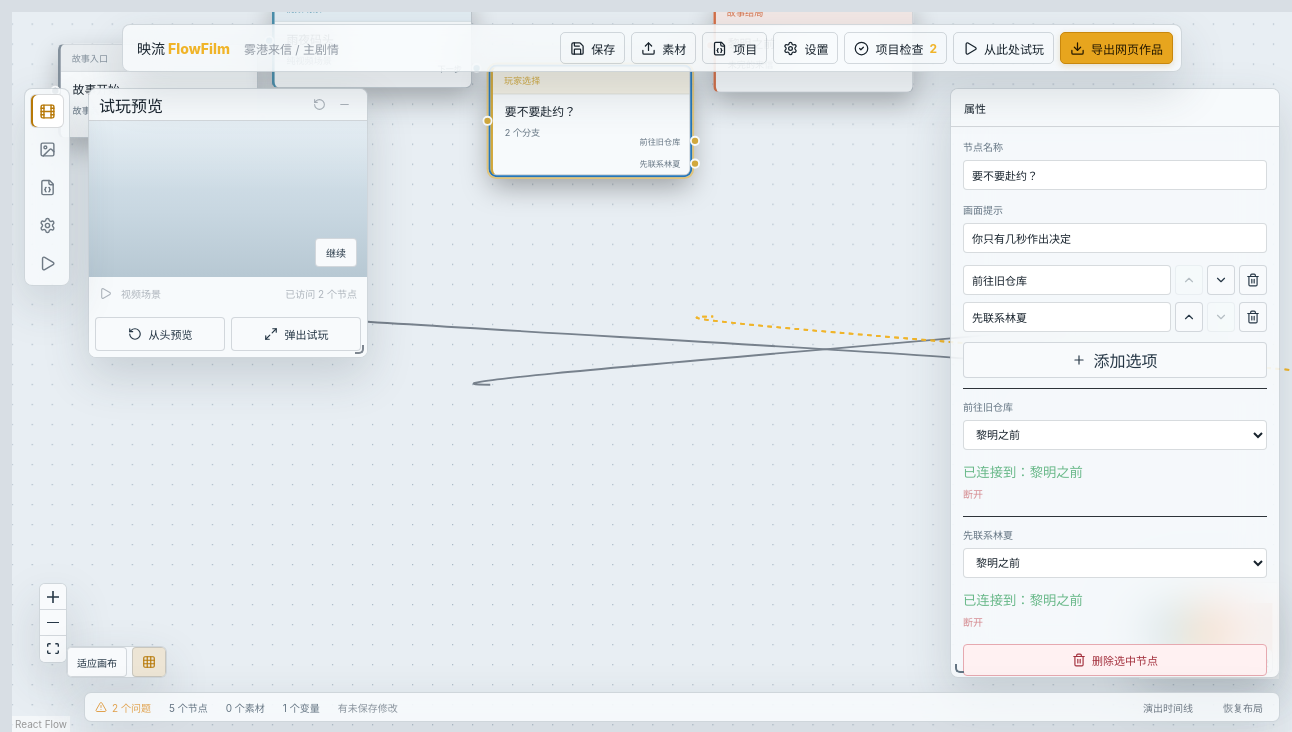
Test: editor workbench › switches independent chapter canvases from the project drawer
The image size is (1292, 732).
Click the button named "打开项目": [47, 187] box [30,170,64,204]
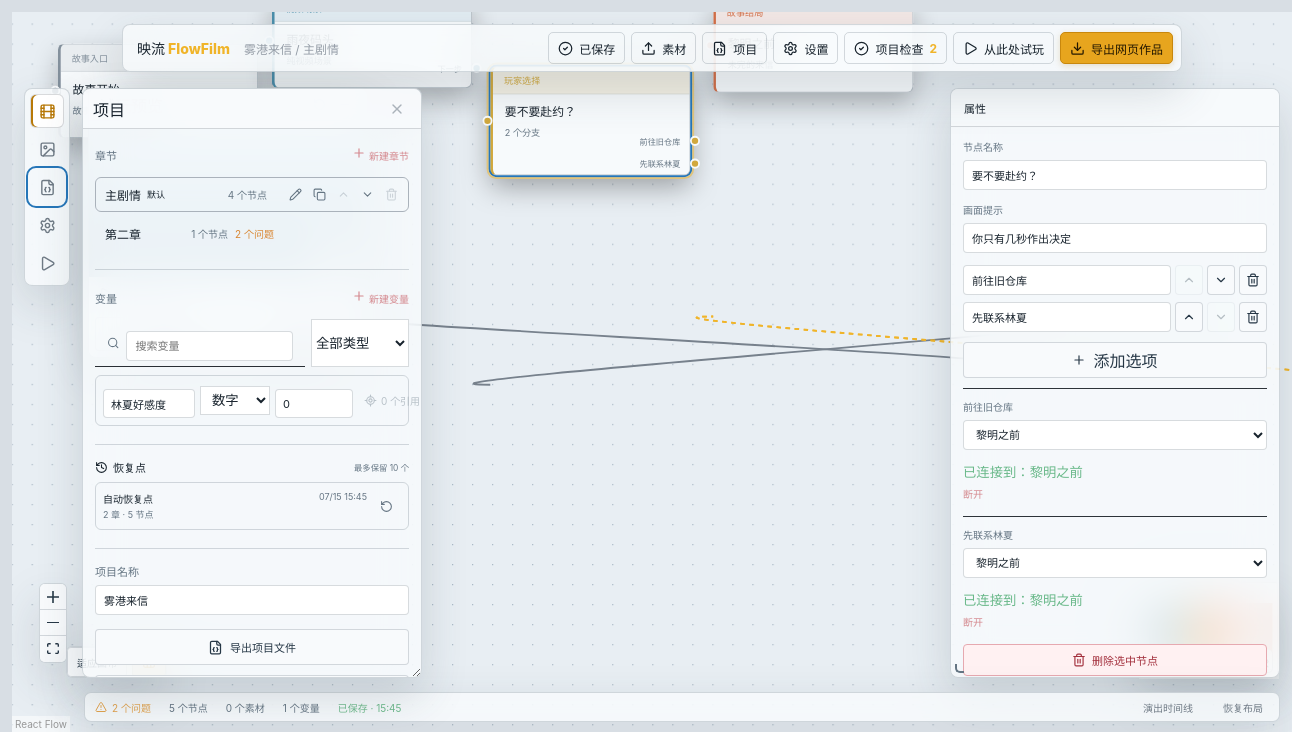
Click the button with aria-label "打开章节 第二章": [190, 234] box [96,217,283,250]
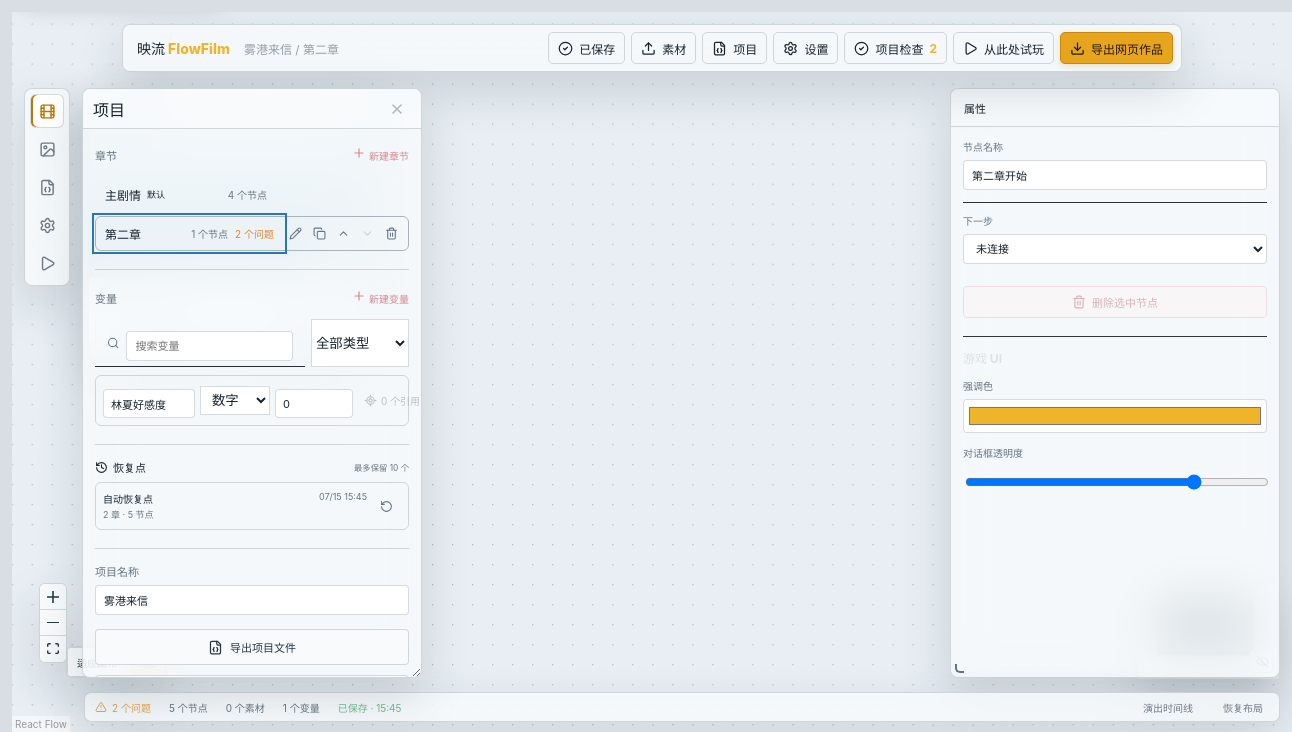
Expected: the element with test id "story-graph" has attribute data-chapter-id="chapter-two"
